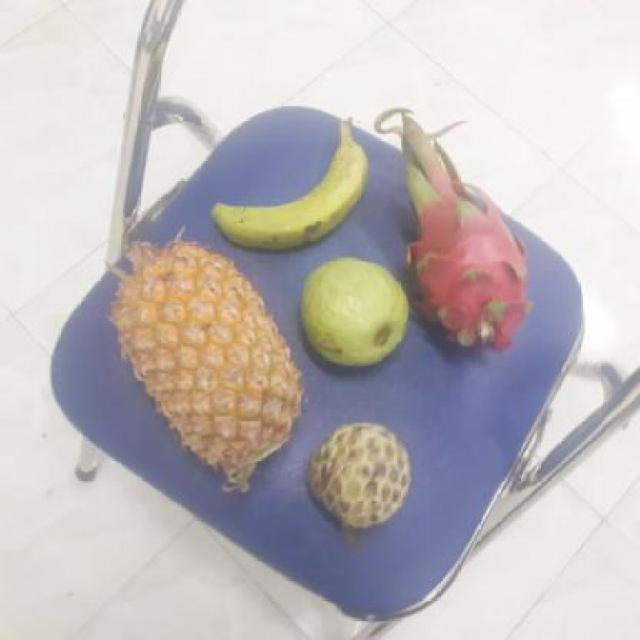banana: (208, 130, 364, 250)
dragon fruit: (398, 177, 532, 348)
guava: (295, 260, 410, 368)
pineapple: (103, 238, 300, 484)
sugar apple: (298, 422, 411, 533)
